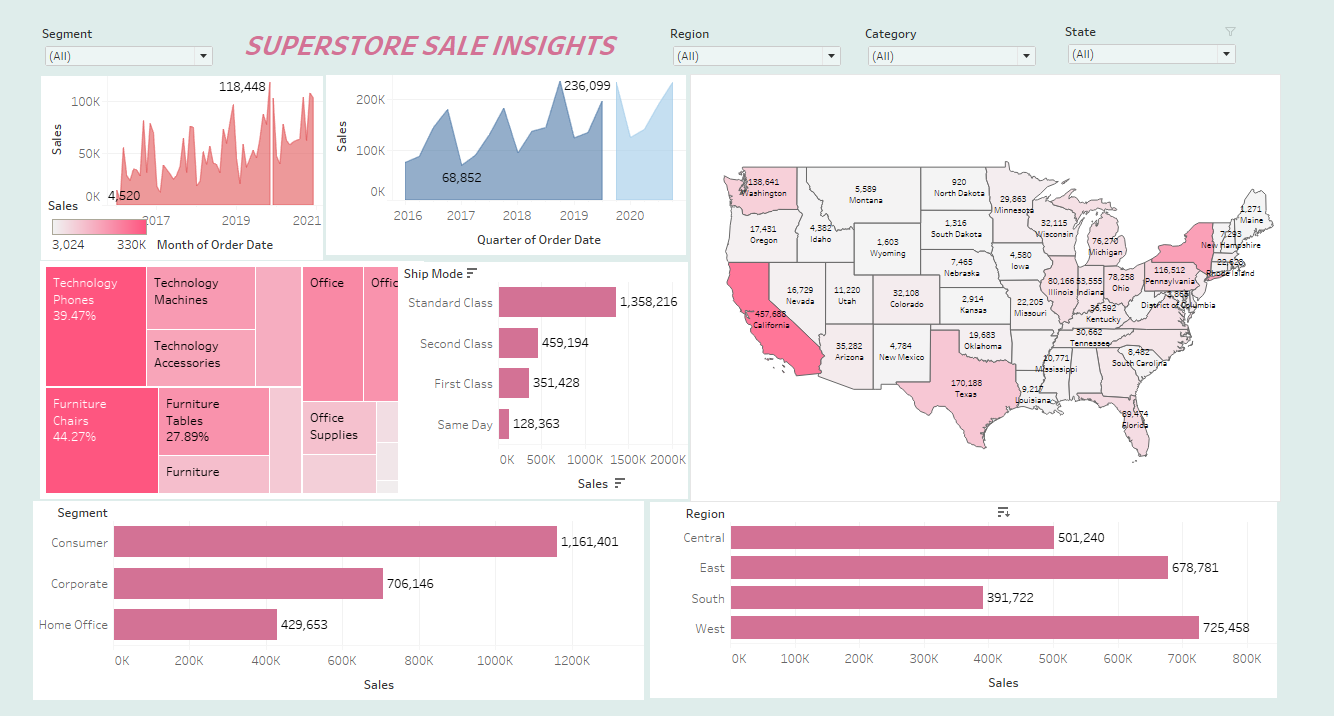

This screenshot's page, from the dashboard's own definition file:
{"tool":"tableau","page":{"name":"Dashboard 2","canvas":[1000,1000],"units":"permille","ordinal":1},"visuals":[{"type":"text","box":[162.6,1.7,329.6,74.3]},{"type":"filter","title":"SALE BY STATE","param":"[federated.103sz941j4lsj21dz9pu90r78l3a].[none:Segment:nk]","box":[4.3,10.1,138.4,168.9]},{"type":"filter","title":"CATEGORY WISE SALE","param":"[federated.103sz941j4lsj21dz9pu90r78l3a].[none:Region:nk]","box":[504.3,10.1,138.4,109.8]},{"type":"filter","title":"MONTHLY SALE WITH FORECAST","param":"[federated.103sz941j4lsj21dz9pu90r78l3a].[none:Category:nk]","box":[659.2,10.1,138.4,168.9]},{"type":"worksheet","title":"SALE BY STATE","mark":"Automatic","box":[519.9,81.1,470.6,618.2]},{"type":"worksheet","title":"MONTHLY SALE WITH FORECAST","mark":"Area","rows":["Sales"],"cols":["Order Date"],"box":[230.1,82.8,286.3,260.1]},{"type":"worksheet","title":"monthly sale","mark":"Area","rows":["Sales"],"cols":["Order Date"],"box":[3.5,84.5,224.9,265.2]},{"type":"legend","title":"CATEGORY WISE SALE","param":"[federated.103sz941j4lsj21dz9pu90r78l3a].[sum:Sales:qk]","box":[8.7,258.4,82.2,98]},{"type":"worksheet","title":"CATEGORY WISE SALE","mark":"Automatic","box":[2.6,351.4,417,344.6]},{"type":"worksheet","title":"SALE BY SHIP MODE","mark":"Automatic","rows":["Ship Mode"],"cols":["Sales"],"box":[287.2,353,231,342.9]},{"type":"worksheet","title":"SALE BY REGION","mark":"Automatic","rows":["Region"],"cols":["Sales"],"box":[487.9,699.3,499.1,283.8]}]}

Visuals, with their boxes on the dashboard's canvas, which has no fixed pixel size, in thousandths of its width and height (x1, y1, x2, y2). These are canvas units, not pixel positions in the 1334x716 screenshot, which may show the page scaled, cropped or inside an application window:
text: bbox(163, 2, 492, 76)
"SALE BY STATE" filter: bbox(4, 10, 143, 179)
"CATEGORY WISE SALE" filter: bbox(504, 10, 643, 120)
"MONTHLY SALE WITH FORECAST" filter: bbox(659, 10, 798, 179)
"SALE BY STATE" worksheet: bbox(520, 81, 990, 699)
"MONTHLY SALE WITH FORECAST" worksheet (Area marks): bbox(230, 83, 516, 343)
"monthly sale" worksheet (Area marks): bbox(4, 84, 228, 350)
"CATEGORY WISE SALE" legend: bbox(9, 258, 91, 356)
"CATEGORY WISE SALE" worksheet: bbox(3, 351, 420, 696)
"SALE BY SHIP MODE" worksheet: bbox(287, 353, 518, 696)
"SALE BY REGION" worksheet: bbox(488, 699, 987, 983)
